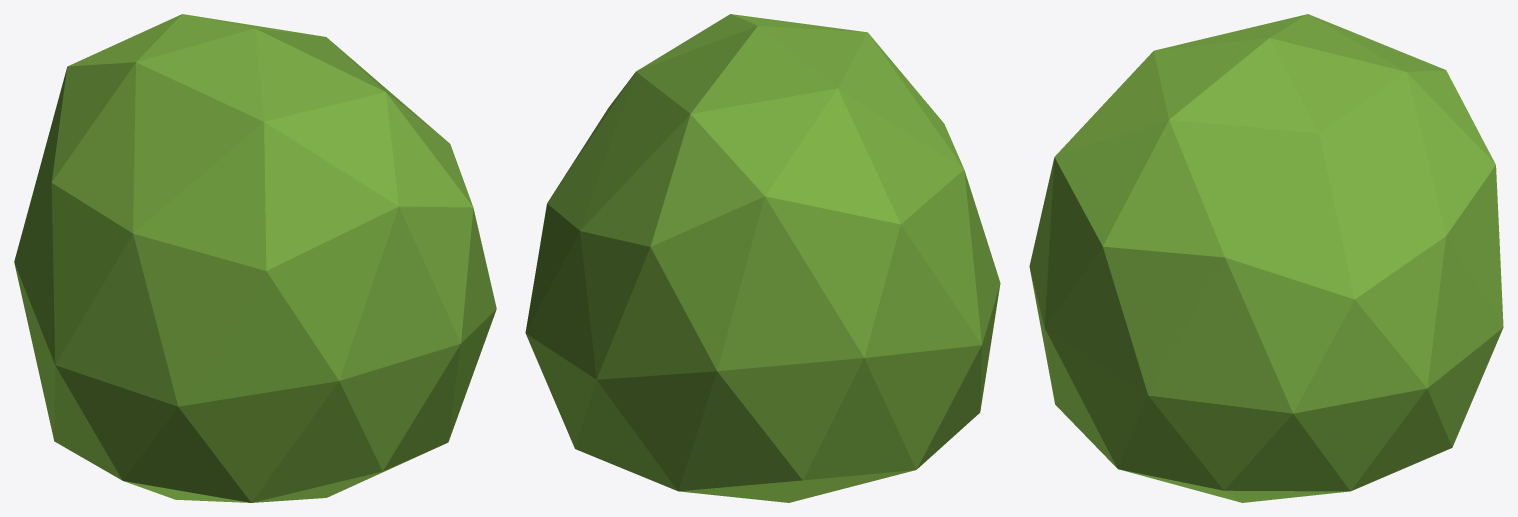
The model's file is Bush2FinalModel.fbx.
The picture shows the model from 3 angles, left to right: view 1: azimuth 30°, elevation 25°; view 2: azimuth 150°, elevation 25°; view 3: azimuth 270°, elevation 25°; orthographic projection. The views are drawn at different scales.
Parts seen in each view (by area): view 1: Bush2FinalModel; view 2: Bush2FinalModel; view 3: Bush2FinalModel.
Part boxes in pixels (x1,y1,x2,y2): Bush2FinalModel: (14,14,496,502); Bush2FinalModel: (525,14,1000,502); Bush2FinalModel: (1029,14,1503,502).
Bounding box in the file's own units: 52.53 × 51.33 × 53.04.
